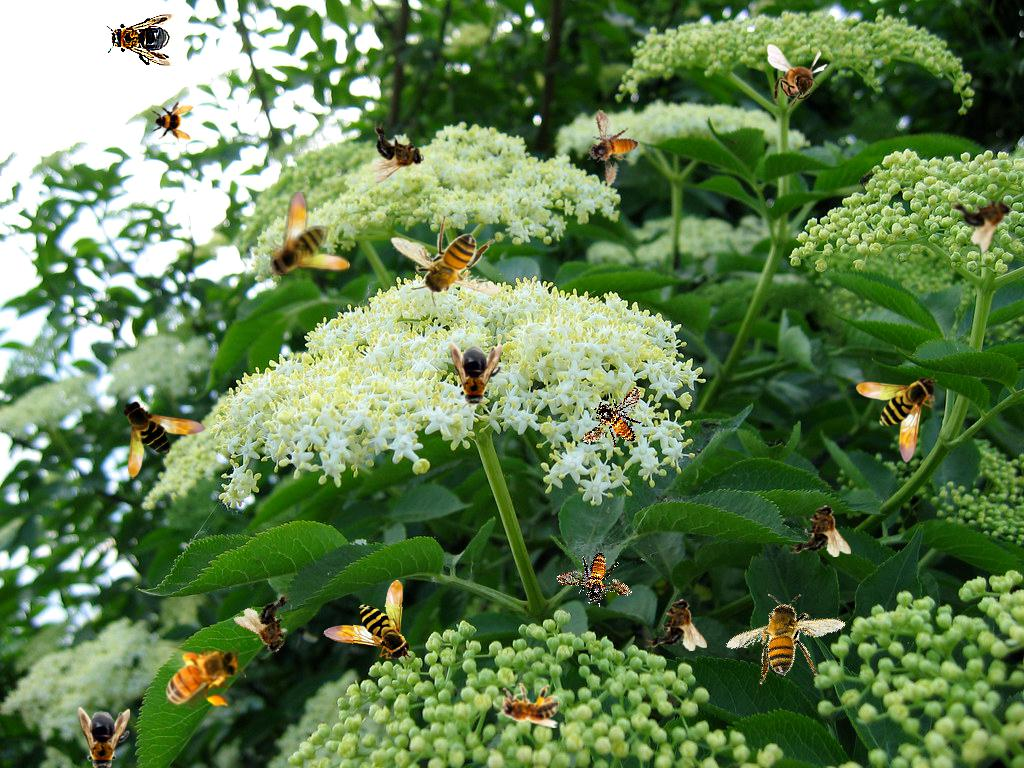Bee: (715, 567, 862, 709), (390, 214, 501, 308), (321, 579, 413, 665), (554, 538, 642, 621), (856, 375, 938, 463), (268, 190, 350, 278), (120, 397, 208, 479), (946, 174, 1024, 256), (153, 642, 246, 710), (572, 386, 656, 459), (232, 588, 311, 664), (578, 108, 646, 191), (767, 44, 828, 114), (450, 342, 502, 410), (106, 14, 174, 66), (645, 598, 707, 651), (371, 121, 424, 183), (789, 504, 851, 557), (78, 707, 130, 768), (493, 683, 559, 728), (150, 98, 194, 142)
